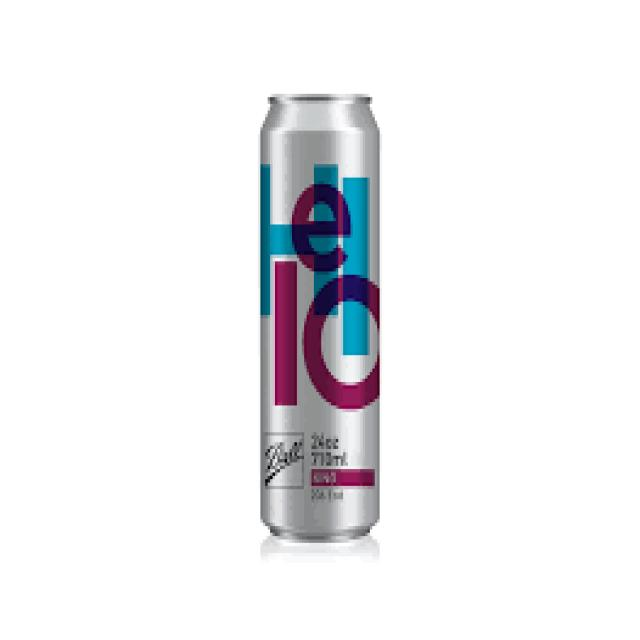Cans: (253, 83, 389, 550)
